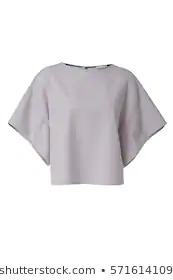S_short blouse: (10, 59, 167, 190)
